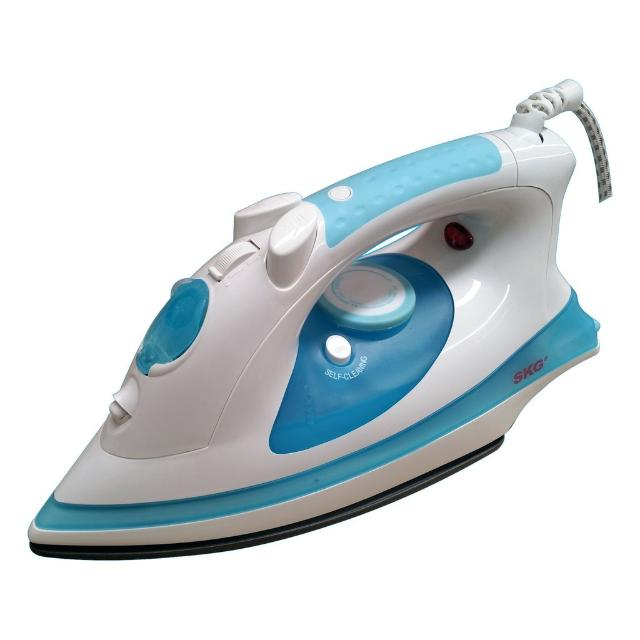Clothes-Iron: (21, 114, 605, 564)
